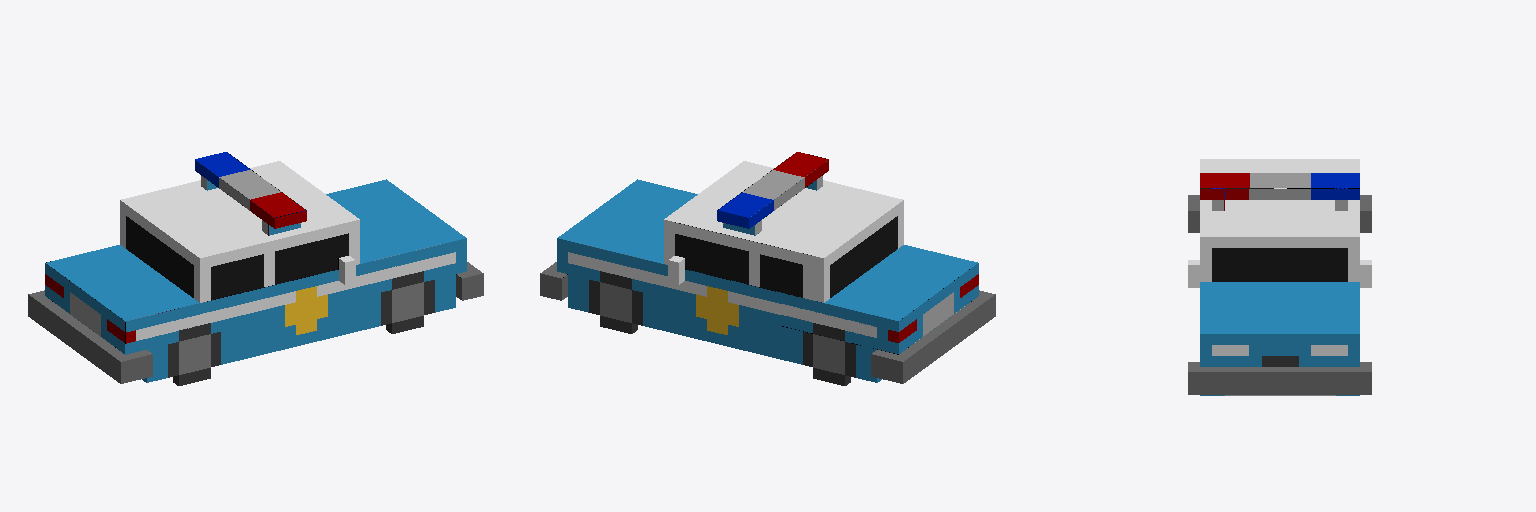
3 views of the same model, side by side, from view 1: azimuth 30°, elevation 25°; view 2: azimuth 150°, elevation 25°; view 3: azimuth 270°, elevation 25° (orthographic).
Visible parts, largest first — view 1: untitled-10; view 2: untitled-10; view 3: untitled-10.
Boxes of the visible parts, x1,y1,x2,y2 form: untitled-10: [28, 152, 483, 385]; untitled-10: [540, 152, 995, 385]; untitled-10: [1188, 159, 1371, 395].
Bounding box in the file's own units: 34 × 13 × 15.
1 materials, 1 textured.